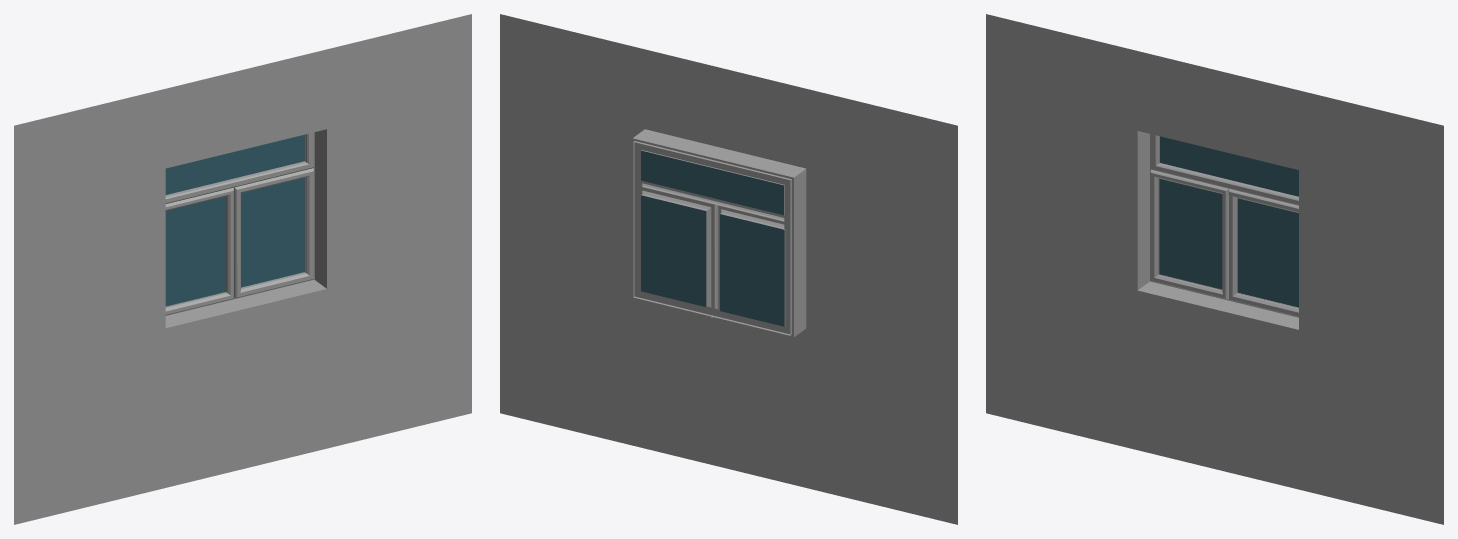
File: Wall_Straight_WindowsPlain_02.fbx
3 views of the same model, side by side, from view 1: azimuth 30°, elevation 25°; view 2: azimuth 150°, elevation 25°; view 3: azimuth 330°, elevation 25° (orthographic).
Parts seen in each view (by area): view 1: polySurface13; view 2: polySurface13; view 3: polySurface13.
Part boxes in pixels (<box>): polySurface13: <box>14,14,471,524</box>; polySurface13: <box>500,14,957,524</box>; polySurface13: <box>986,14,1443,524</box>.
Bounding box in the file's own units: 300 × 250 × 17.56.
